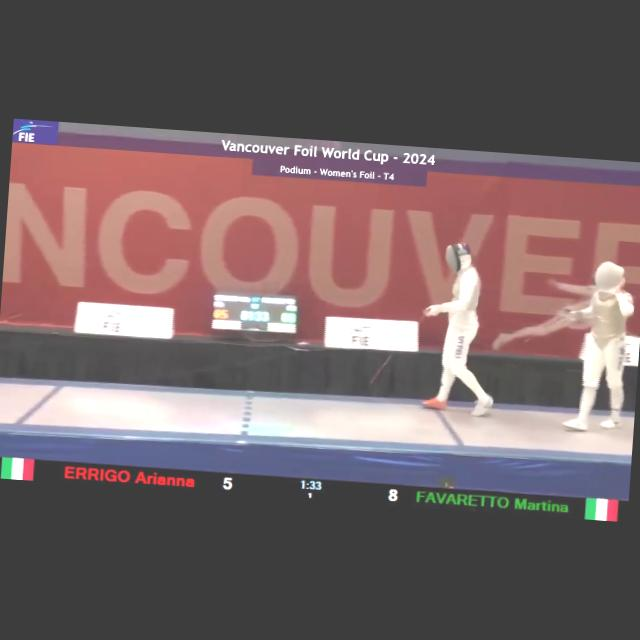blade: (371, 299, 432, 388), (525, 306, 577, 344)
